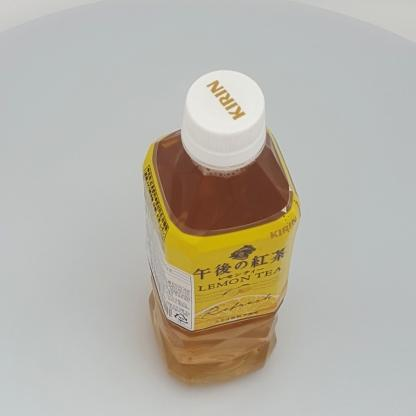--------------500ml: (142, 70, 301, 387)
